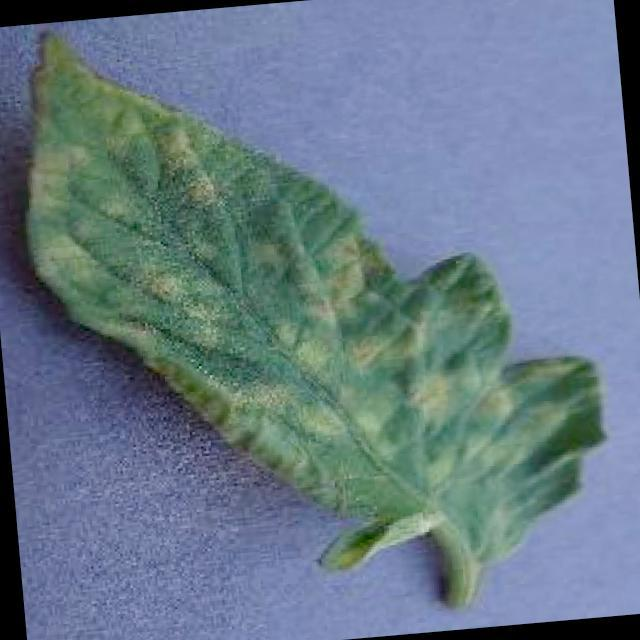Tomato mold leaf: (5, 0, 616, 599)
